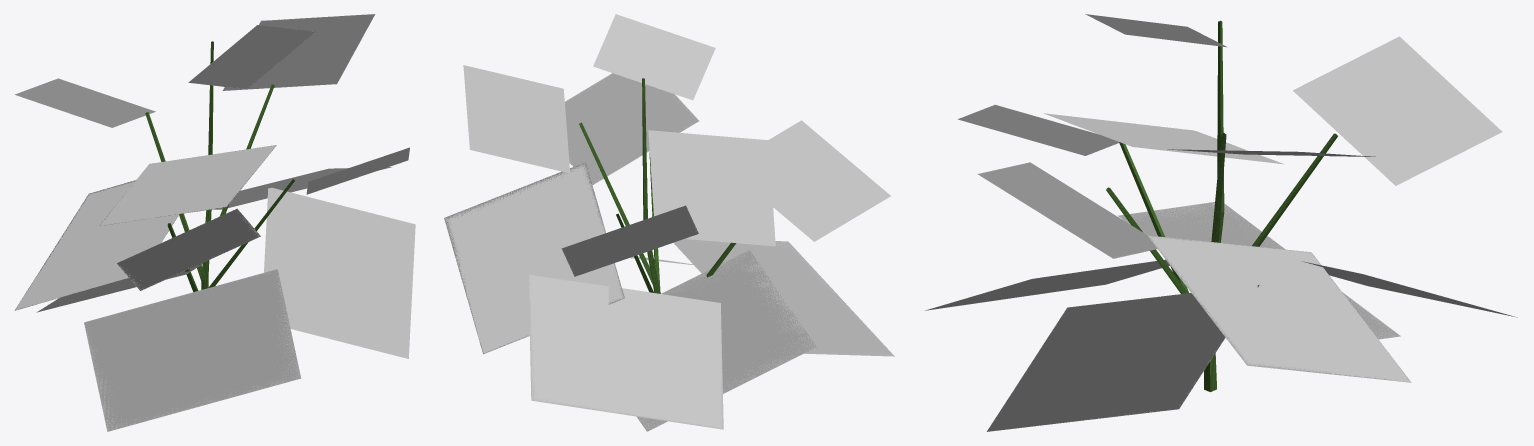
File: plant_2_2_0_lod.obj
3 views of the same model, side by side, from view 1: azimuth 30°, elevation 25°; view 2: azimuth 150°, elevation 25°; view 3: azimuth 270°, elevation 25° (orthographic). The views are drawn at different scales.
Visible parts, largest first — view 1: model; view 2: model; view 3: model.
Part boxes in pixels (x1=…): model: x1=14, y1=14, x2=415, y2=431; model: x1=444, y1=14, x2=894, y2=431; model: x1=924, y1=14, x2=1517, y2=431.
Bounding box in the file's own units: 0.8771 × 0.7215 × 0.9681.
